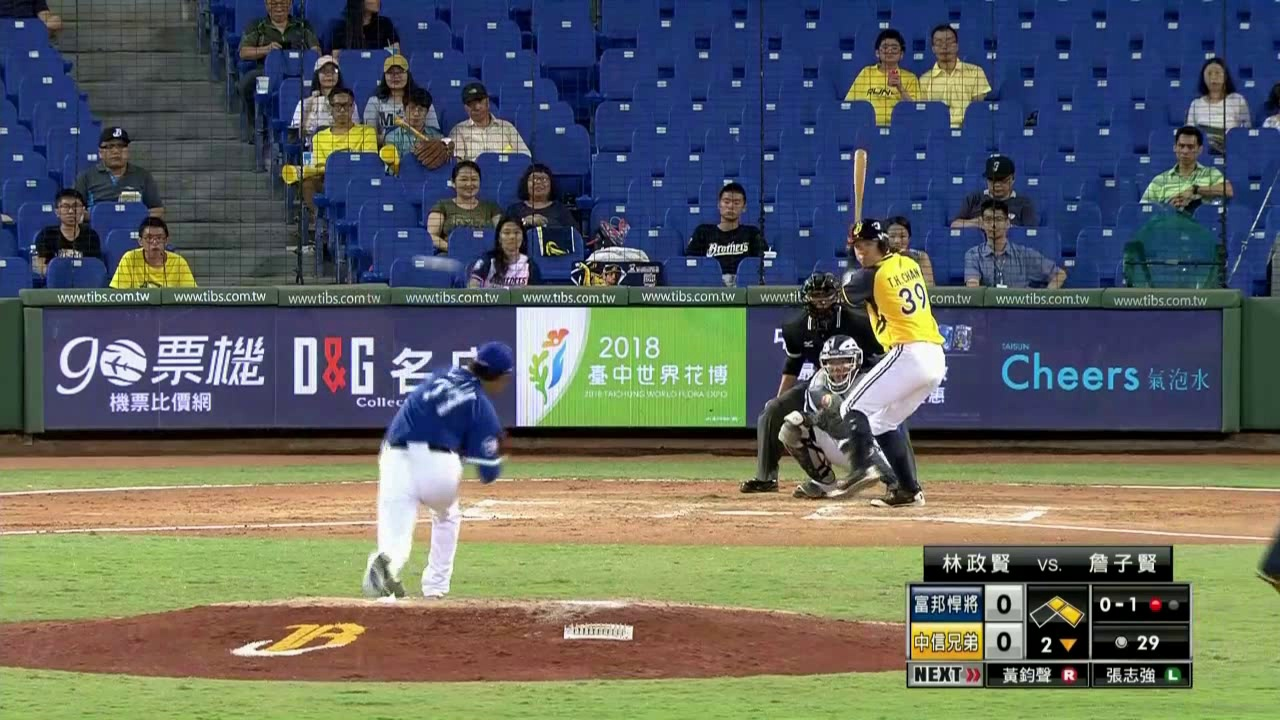ball: (428, 255, 445, 270)
base: (1030, 588, 1092, 628)
bat: (849, 146, 871, 224)
out: (1141, 589, 1185, 618)
score1: (988, 589, 1019, 618)
score2: (986, 624, 1019, 656)
session: (1031, 628, 1082, 661)
strikeball: (1094, 588, 1141, 619)
total: (1092, 631, 1188, 660)
